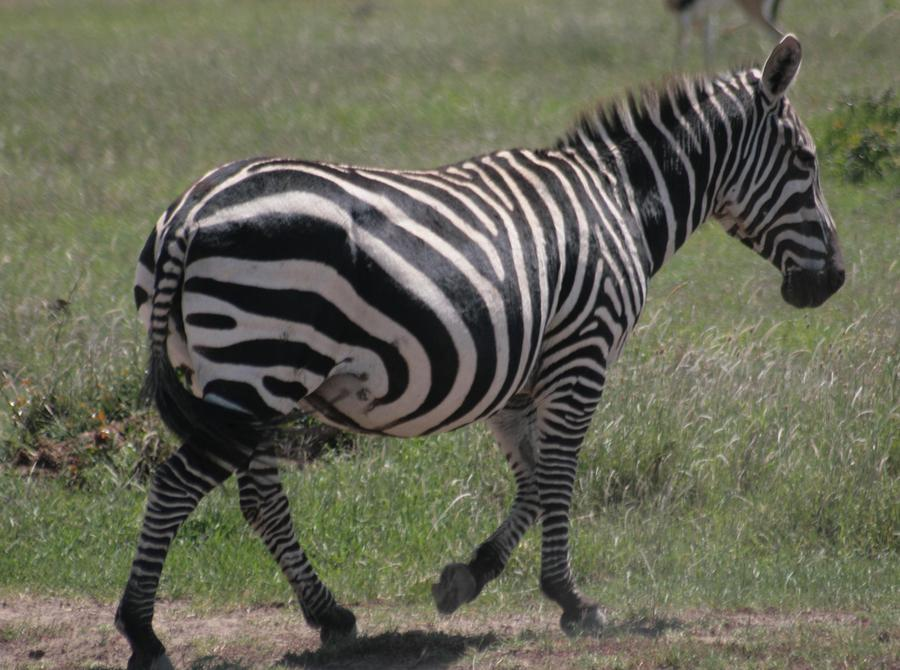zebra_plains: (202, 136, 635, 427)
